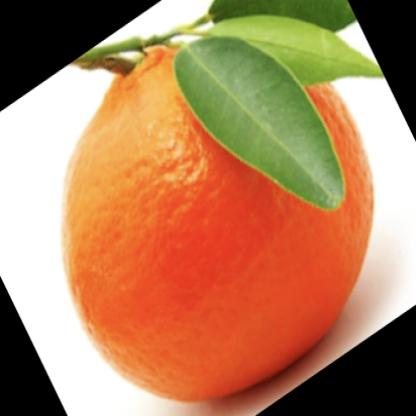fresh: (62, 36, 376, 400)
